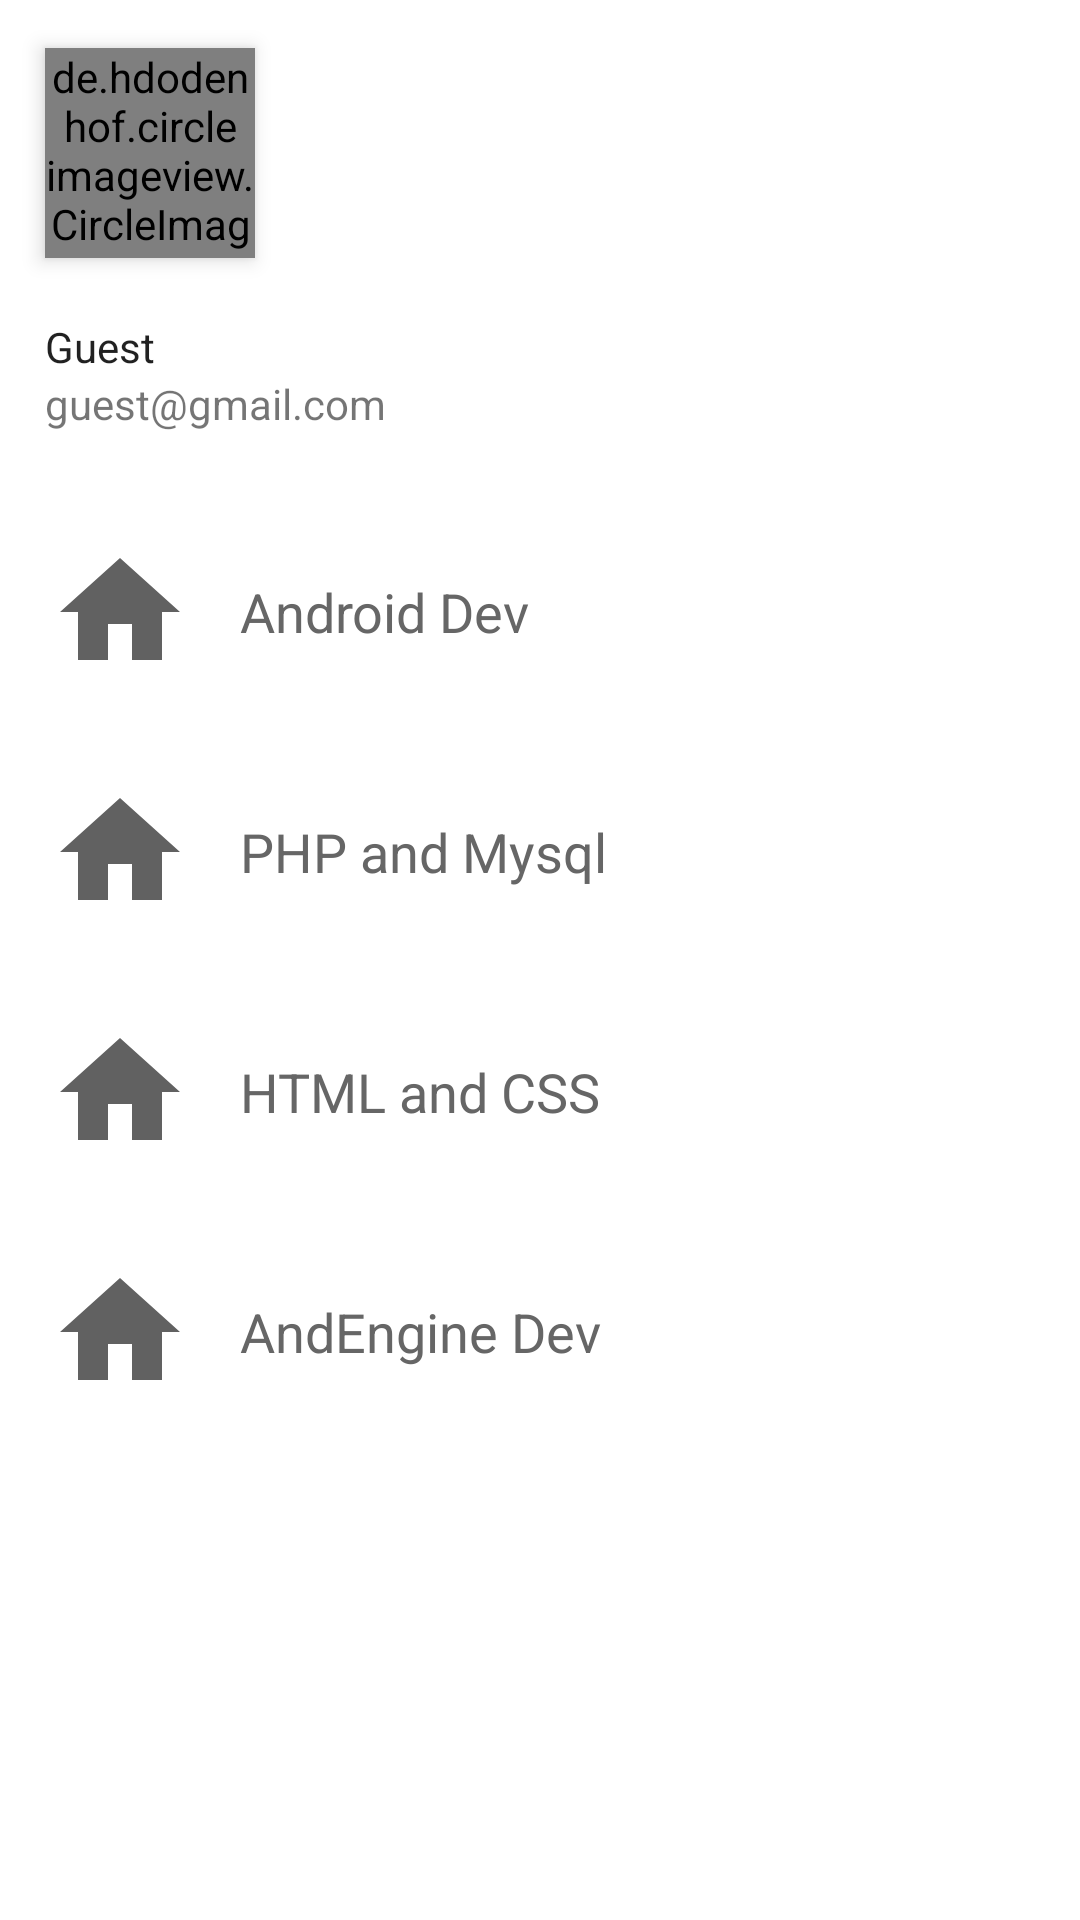

Screen size 1080 × 1920. Icon name, then its center in pixels as (x=x, y=y):
home: (x=120, y=609), (x=120, y=849), (x=120, y=1089), (x=120, y=1329)
